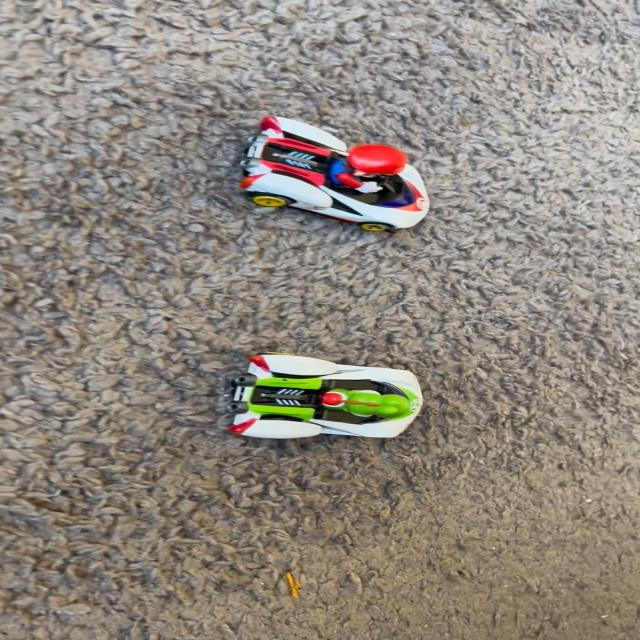mario: (226, 109, 457, 242)
yoshi: (219, 344, 440, 450)
